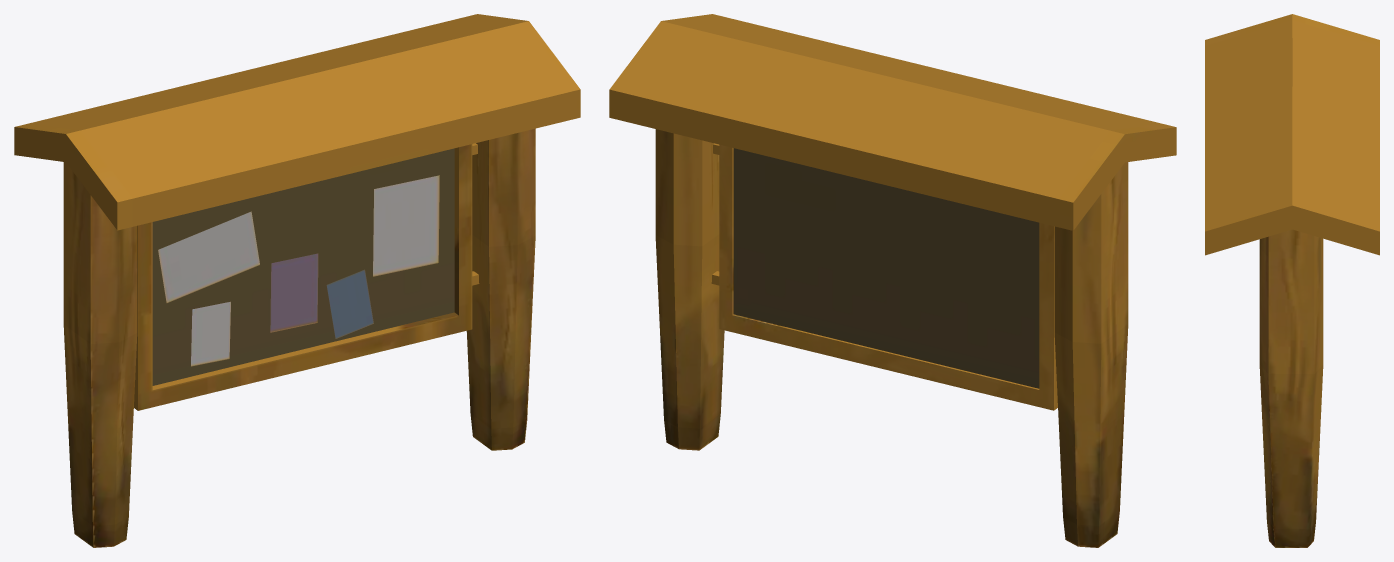
The model's file is Bulliten-optimized.glb.
3 renders of one model, left to right at view 1: azimuth 30°, elevation 25°; view 2: azimuth 150°, elevation 25°; view 3: azimuth 270°, elevation 25°, orthographic. The views are drawn at different scales.
Parts seen in each view (by area): view 1: Cube.008; view 2: Cube.008; view 3: Cube.008.
Part boxes in pixels (box(x1,y1,x2,y2)): Cube.008: box(14, 14, 580, 547); Cube.008: box(609, 14, 1176, 547); Cube.008: box(1205, 14, 1379, 547).
Bounding box in the file's own units: 1.31 × 1.11 × 0.5044.
Materials: 1 (1 with a texture image).
